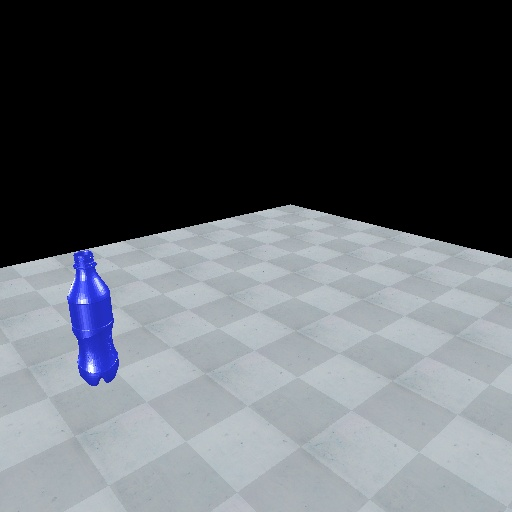bottle: (65, 248, 123, 390)
